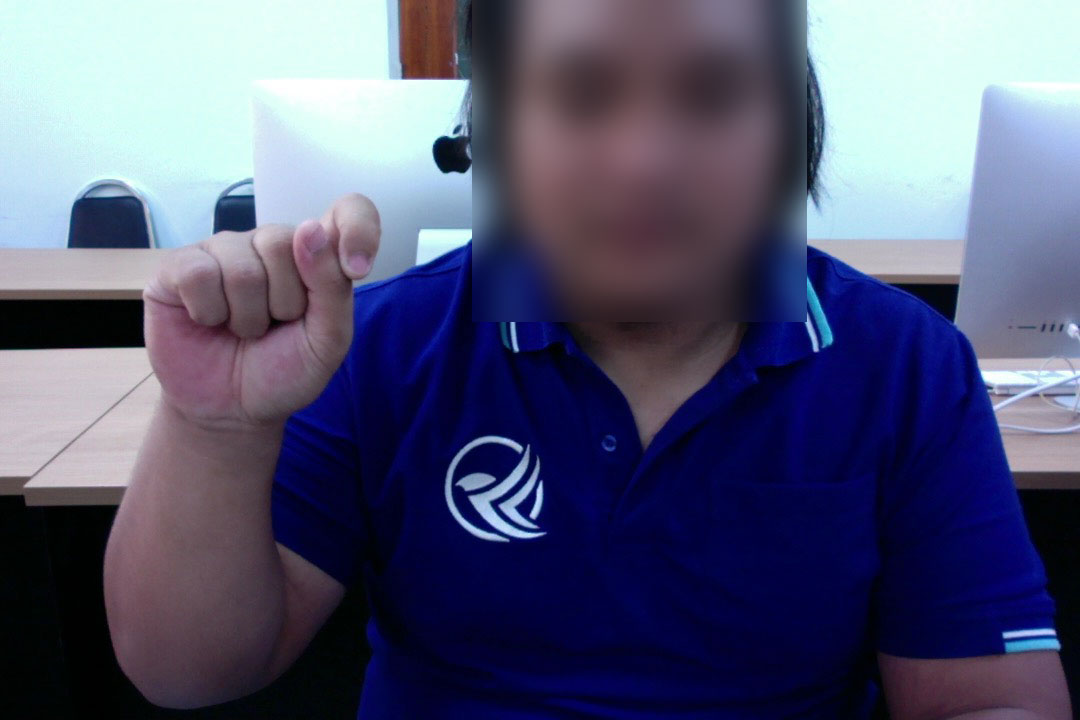tor: (135, 191, 388, 446)
